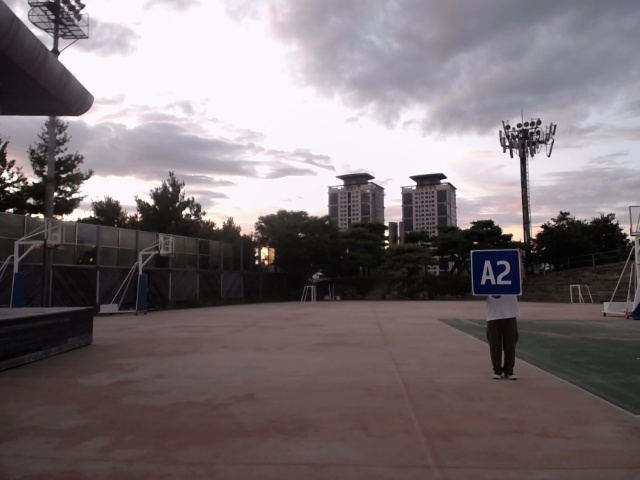delivery_a2: (471, 249, 521, 296)
